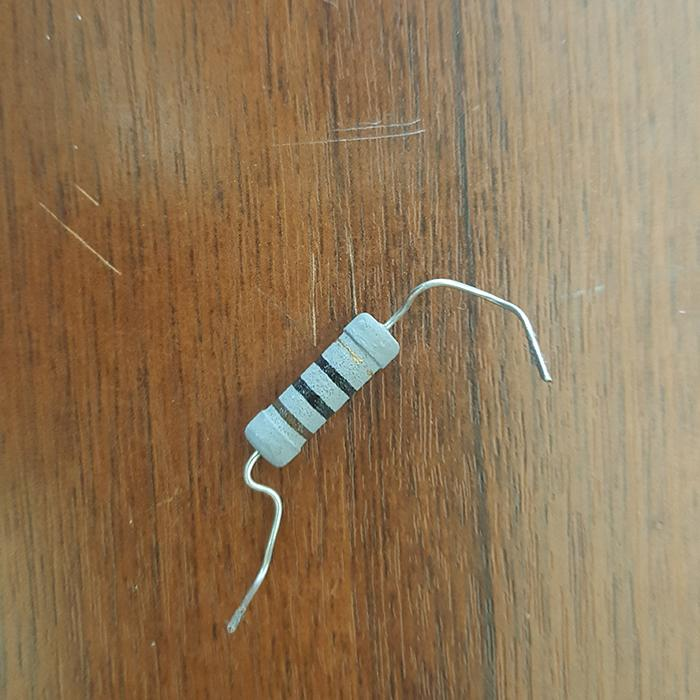resistor: (244, 310, 400, 467)
